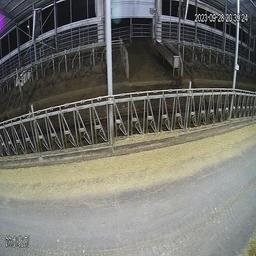cow: (14, 64, 31, 93)
